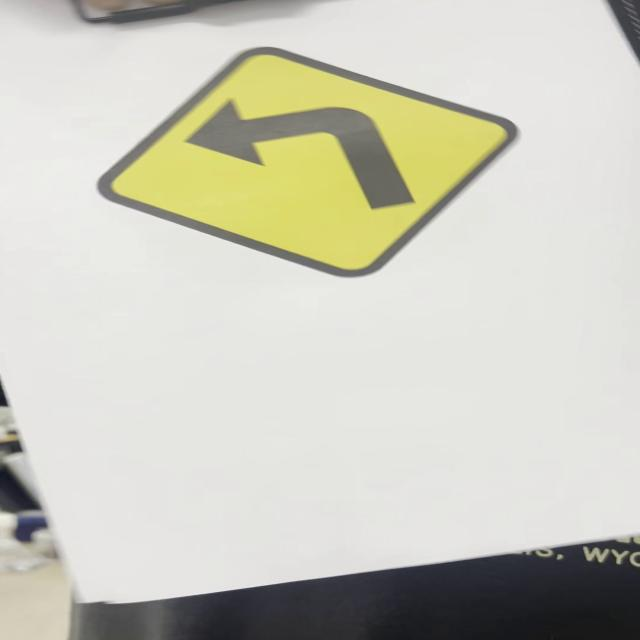left: (98, 46, 520, 279)
